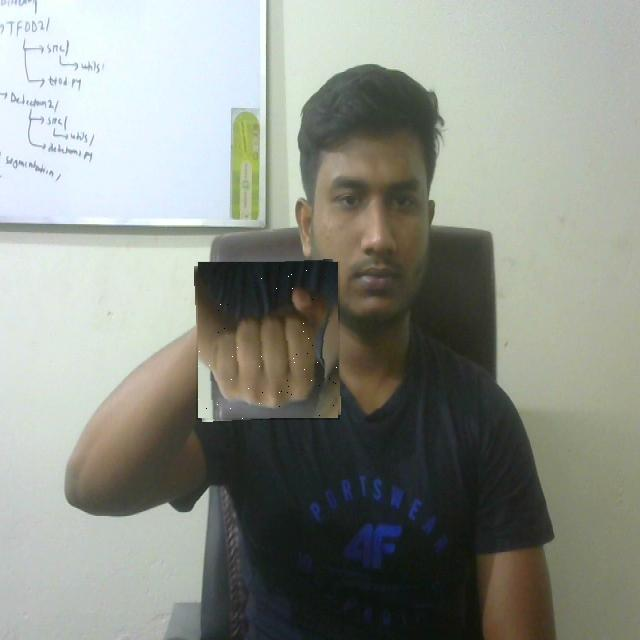Yes: (196, 261, 340, 420)
